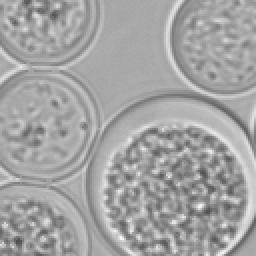picoshell: (88, 92, 254, 254), (0, 66, 100, 184), (164, 0, 254, 98), (0, 178, 88, 254), (250, 104, 254, 156)
